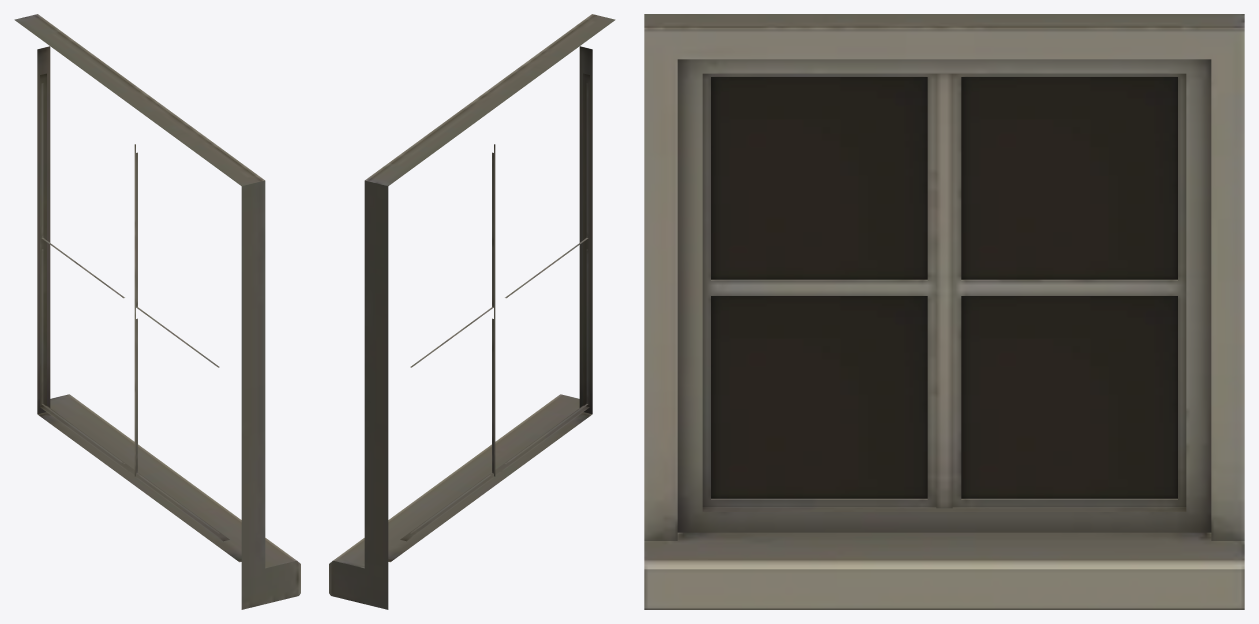
The picture shows the model from 3 angles, left to right: view 1: azimuth 30°, elevation 25°; view 2: azimuth 150°, elevation 25°; view 3: azimuth 270°, elevation 25°; orthographic projection. The views are drawn at different scales.
Visible parts, largest first — view 1: body0_model0_lod0_mesh0; view 2: body0_model0_lod0_mesh0; view 3: body0_model0_lod0_mesh0.
Boxes of the visible parts, x1,y1,x2,y2 form: body0_model0_lod0_mesh0: [14, 14, 300, 609]; body0_model0_lod0_mesh0: [329, 14, 615, 609]; body0_model0_lod0_mesh0: [644, 14, 1244, 609].
Size of the model in its own units: 8.12 by 55.5 by 54.
1 material, 1 textured.
